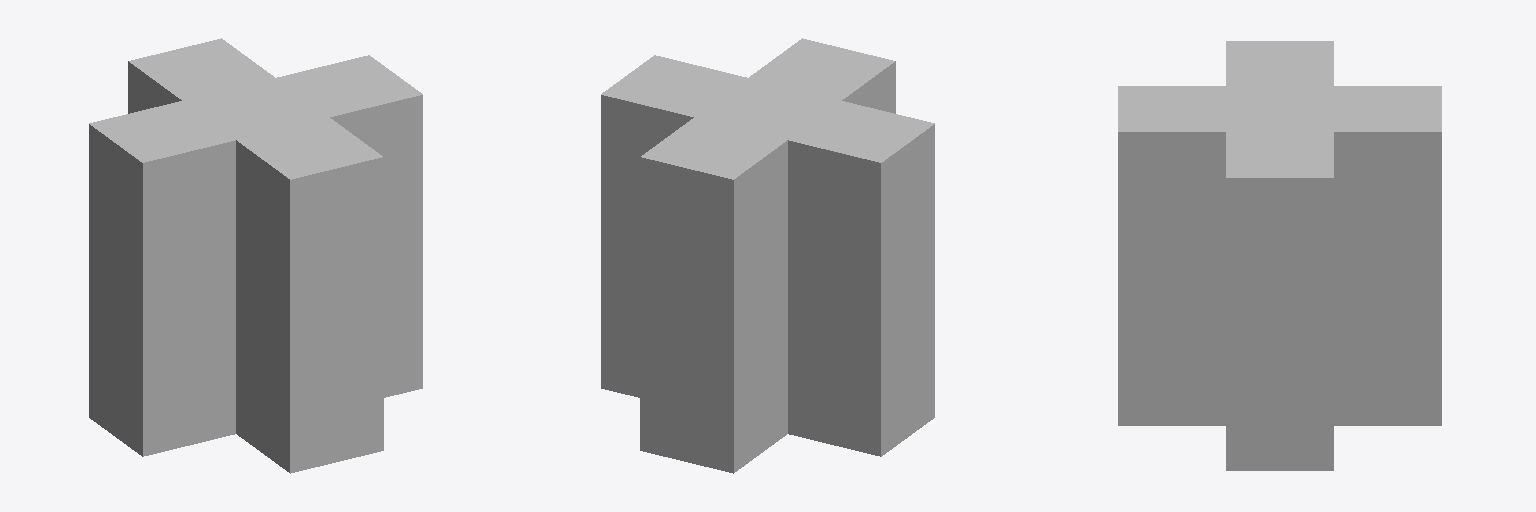
The model's file is glass_pane_center.obj.
3 views of the same model, side by side, from view 1: azimuth 30°, elevation 25°; view 2: azimuth 150°, elevation 25°; view 3: azimuth 270°, elevation 25° (orthographic).
Parts seen in each view (by area): view 1: Cube; view 2: Cube; view 3: Cube.
Part boxes in pixels (left/top/right/bottom): Cube: left=89, top=38, right=422, bottom=473; Cube: left=601, top=38, right=934, bottom=473; Cube: left=1118, top=41, right=1441, bottom=470.
Size of the model in its own units: 1 by 1 by 1.